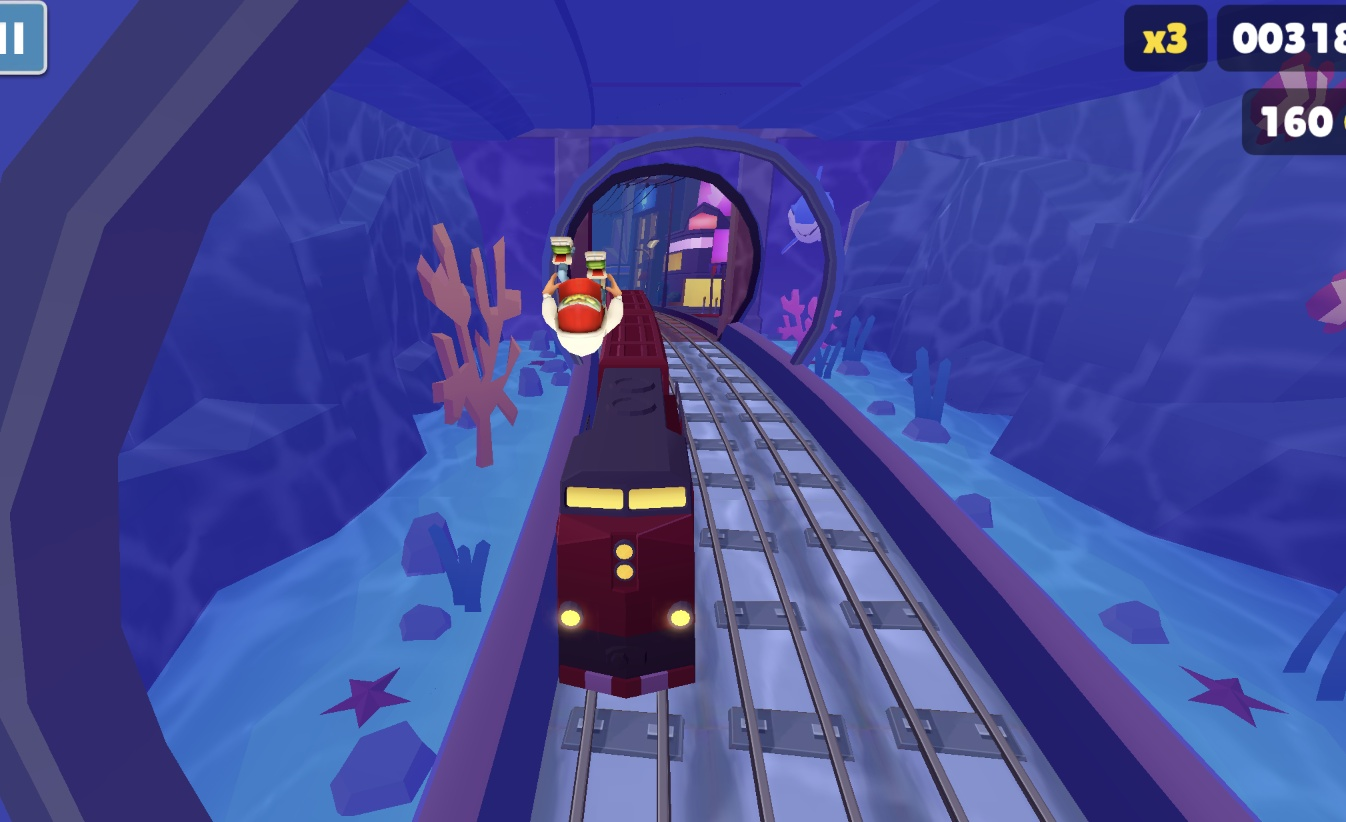train: (556, 291, 698, 701)
